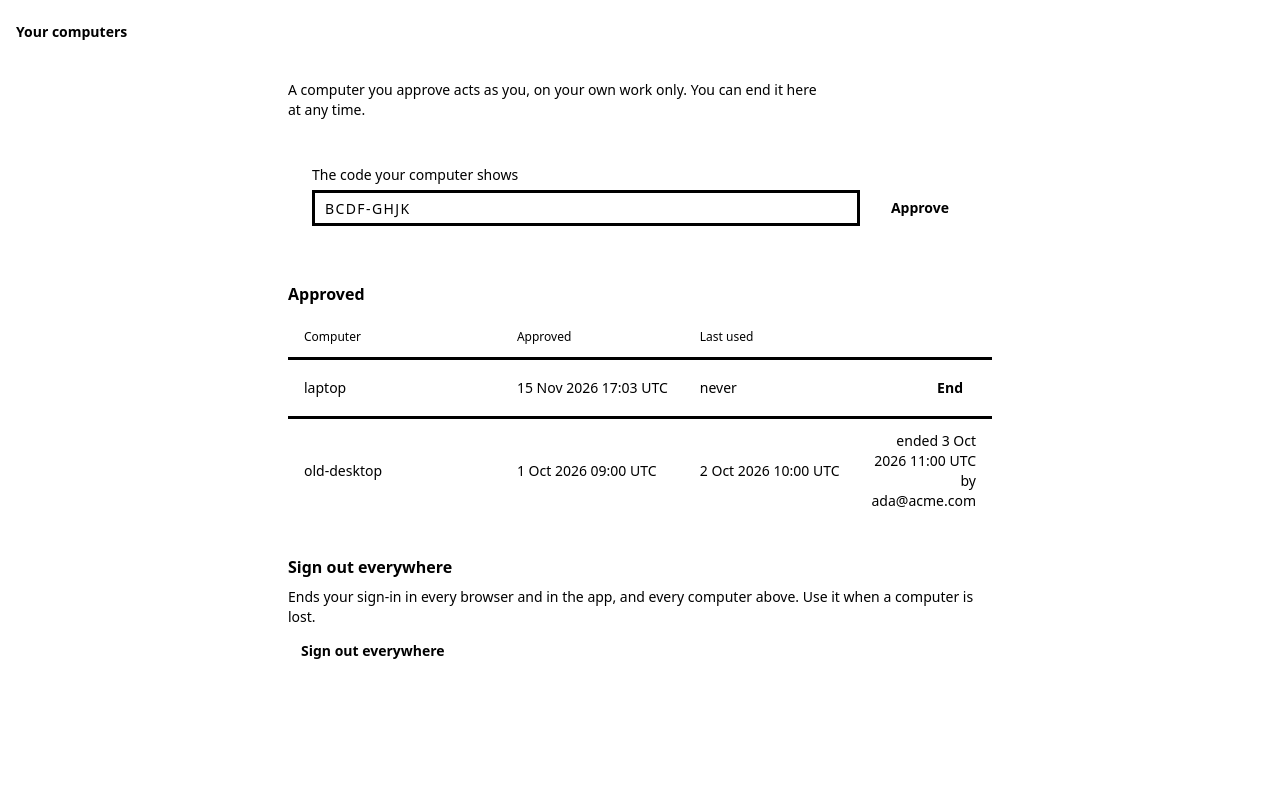
it: your computers › asks before signing out everywhere, and says what it ends
Later steps or results of the test are not shown.
Click the button "Sign out everywhere" at (373, 650), box [288,634,458,666]
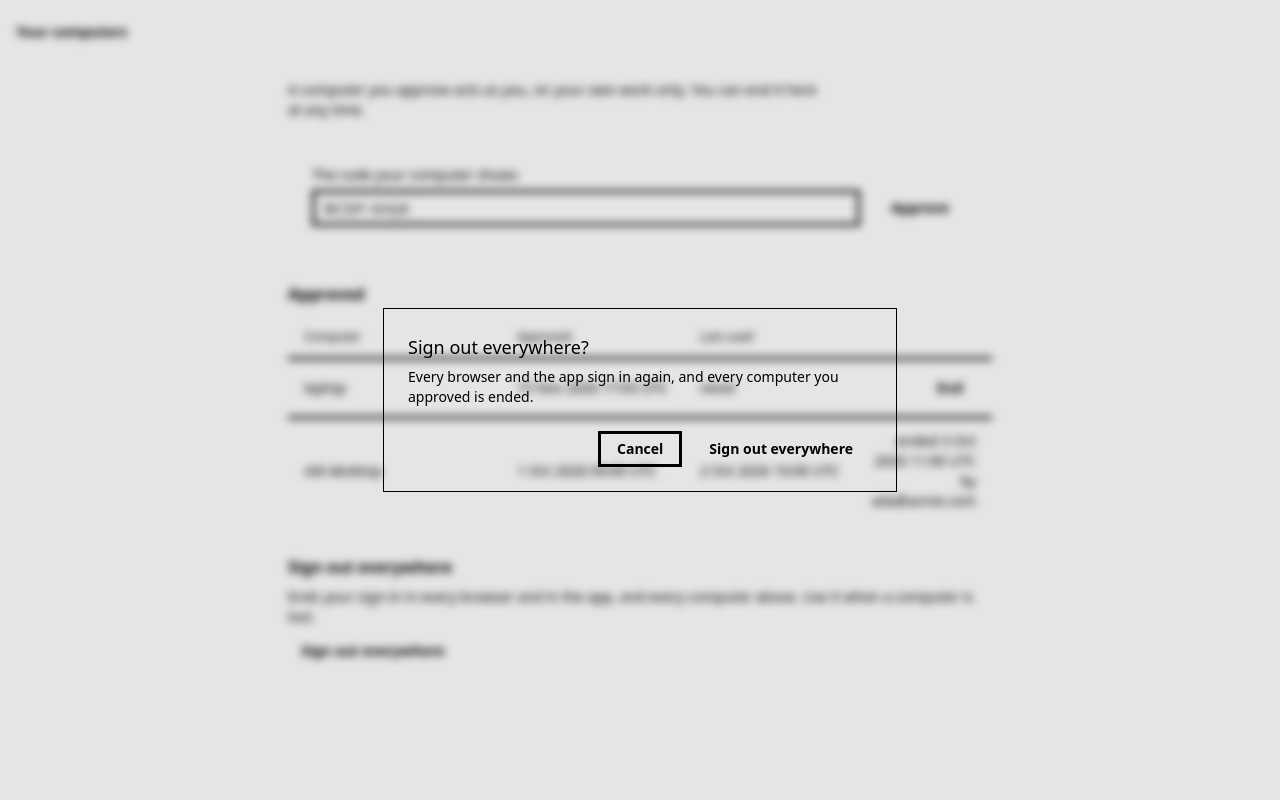
Expected: the text "Every browser and the app sign in again, and every computer you approved is ended." is shown, [408,367,839,406]
